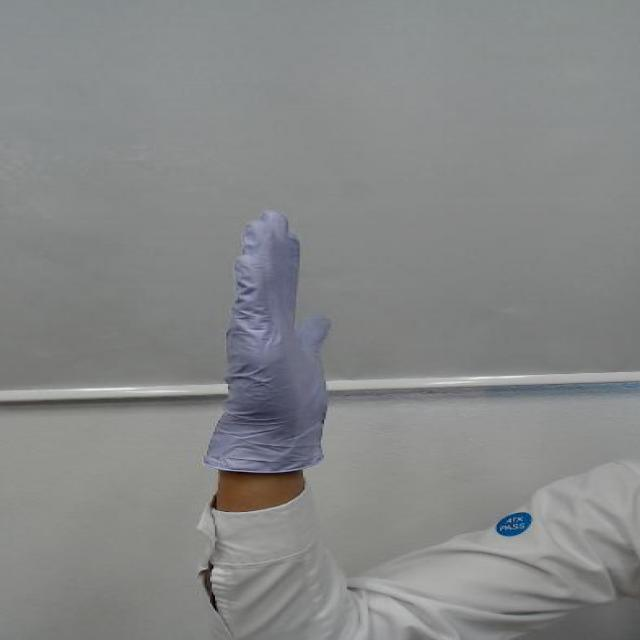Glove: (202, 197, 368, 482)
